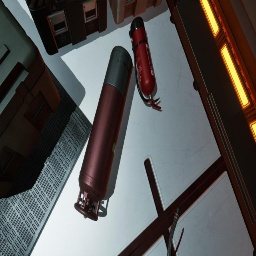FireExtinguisher ]: (129, 16, 161, 109)
NitrogenTank ,: (74, 46, 133, 221)
